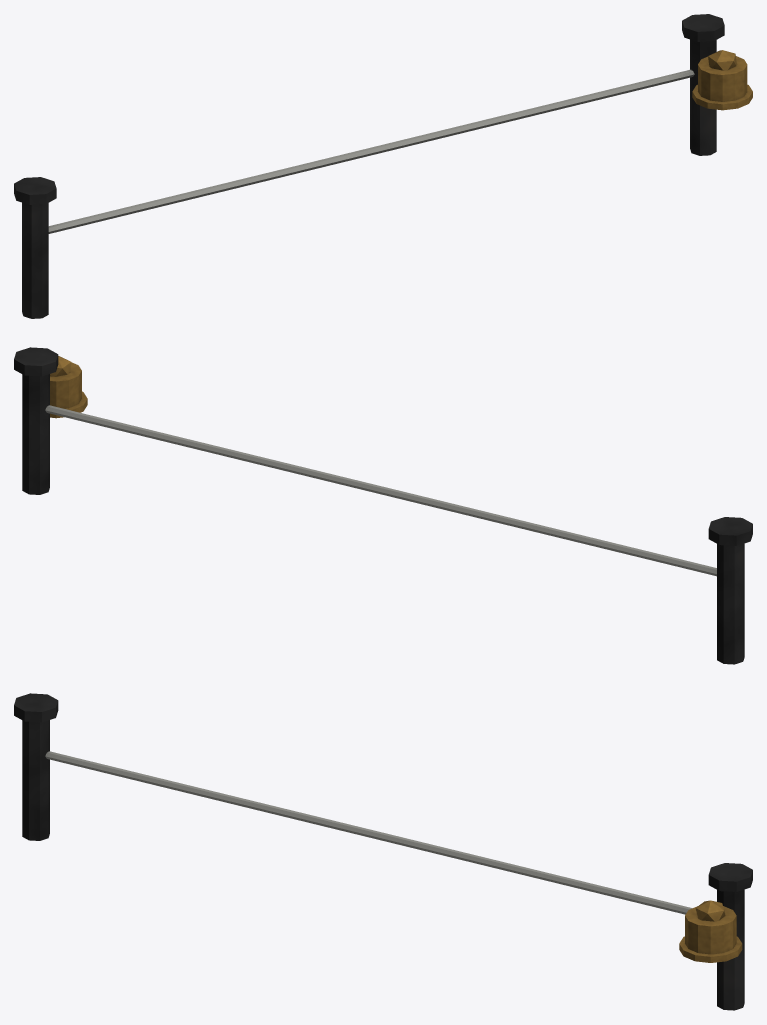
The model's file is trap_siracusa_light.glb.
3 views of the same model, one above another, from view 1: azimuth 30°, elevation 25°; view 2: azimuth 150°, elevation 25°; view 3: azimuth 330°, elevation 25° (orthographic). The views are drawn at different scales.
Visible parts, largest first — view 1: trap_siracusa_light; view 2: trap_siracusa_light; view 3: trap_siracusa_light.
Part boxes in pixels (x1,y1,x2,y2): trap_siracusa_light: (14, 14, 752, 318); trap_siracusa_light: (14, 347, 752, 664); trap_siracusa_light: (14, 693, 752, 1010).
Bounding box in the file's own units: 1.5 × 0.255 × 0.165.
3 materials, 3 textured.
